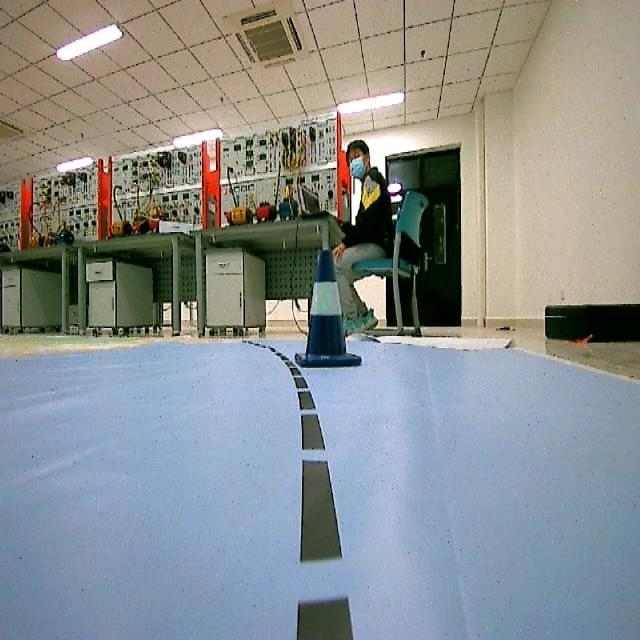obstacle: (304, 244, 361, 376)
